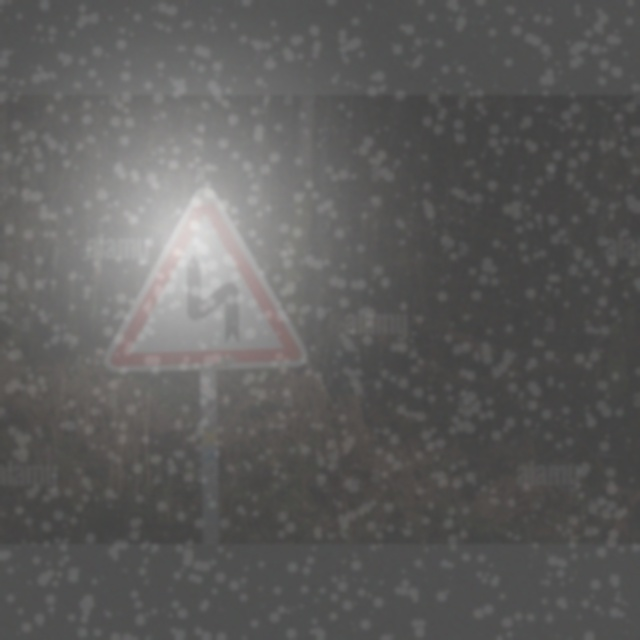Left_Reverse_Bend: (99, 189, 300, 379)
